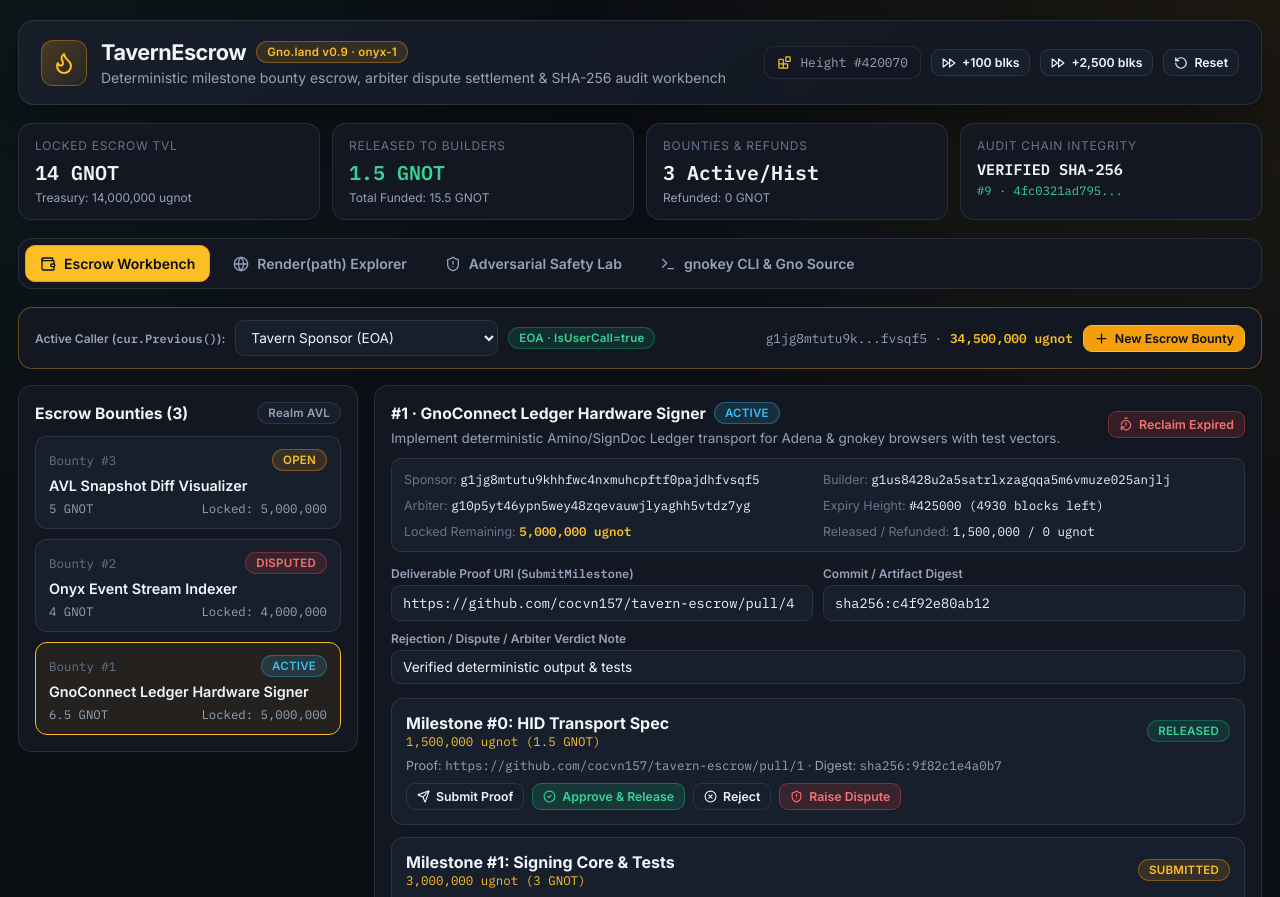
Test: TavernEscrow Interactive Console UI › advances block height via +2,500 blks stepper and resets cleanly
This screenshot has width=1280, height=897.
Expected: the text "Height #420070" is shown, [764, 46, 921, 79]
Click the button "+2,500 blks" at (1097,62), box [1040, 49, 1153, 76]
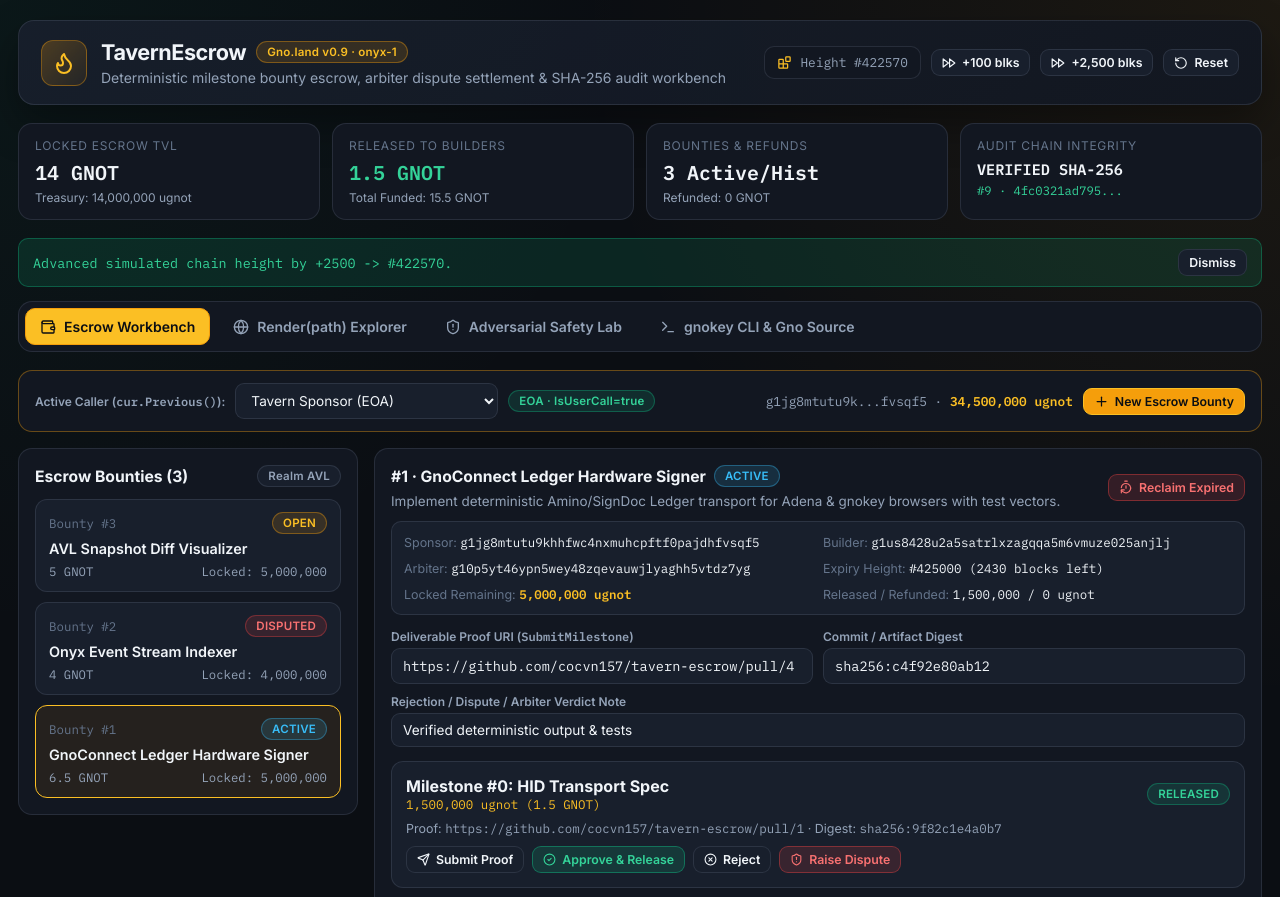
Expected: the text "Height #422570" is shown, [764, 46, 921, 79]
Click the button "Reset" at (1201,62), box [1164, 49, 1239, 76]
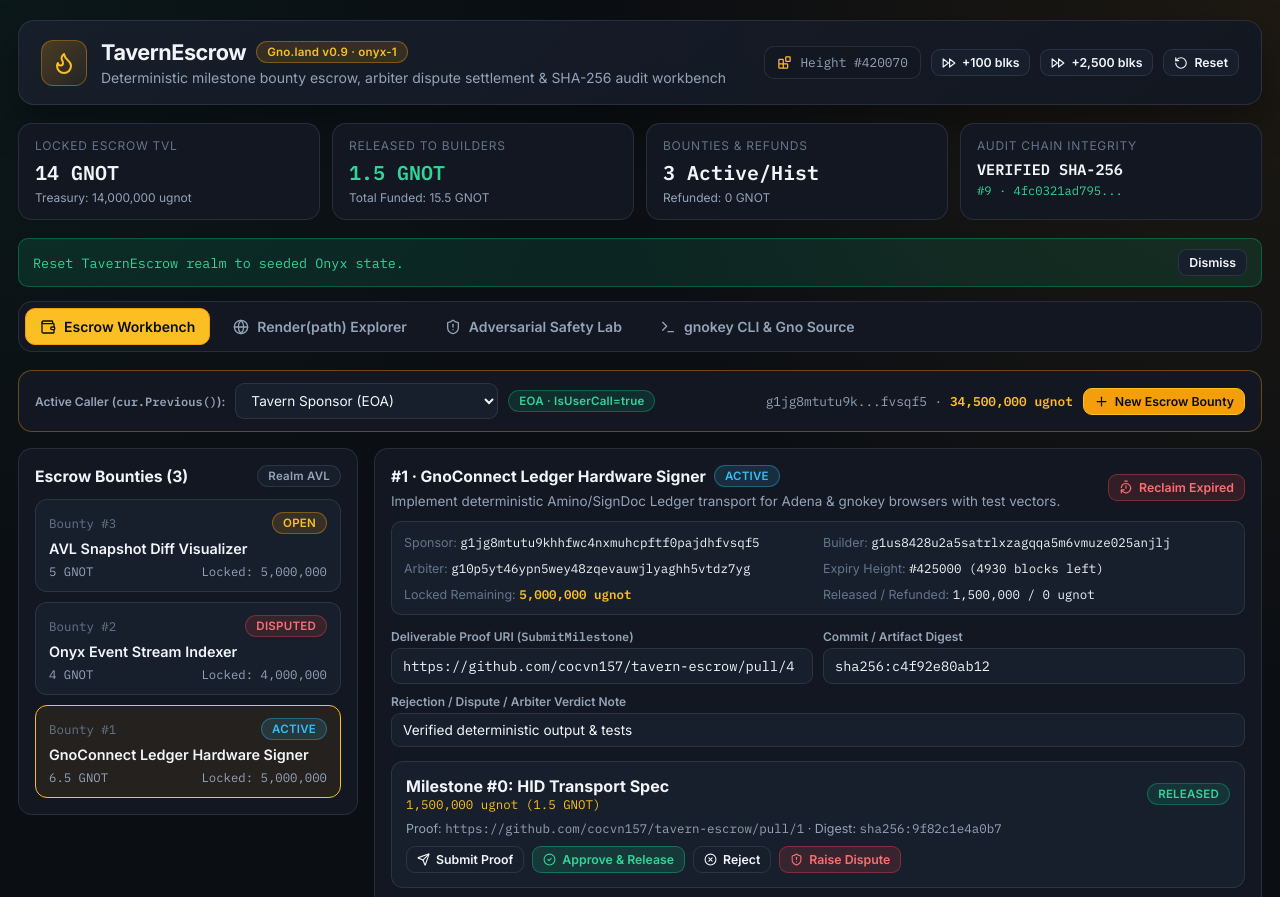
Expected: the text "Height #420070" is shown, [764, 46, 921, 79]
